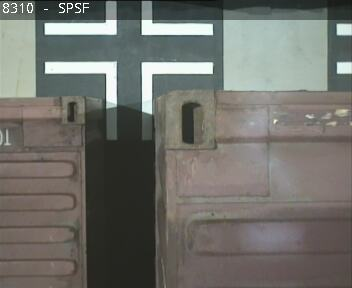groundmarker_1: (43, 60, 213, 139), (43, 1, 212, 36)
